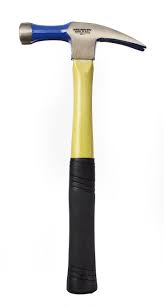hammer: (17, 21, 147, 295)
